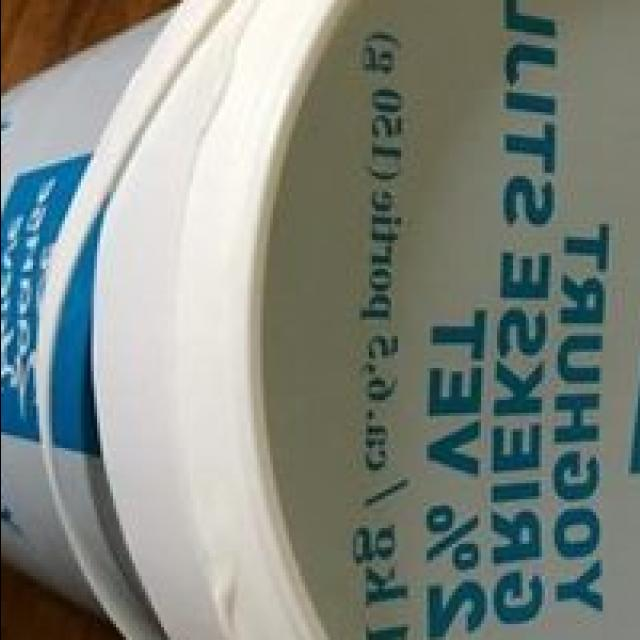yoghurt: (0, 0, 640, 640)
